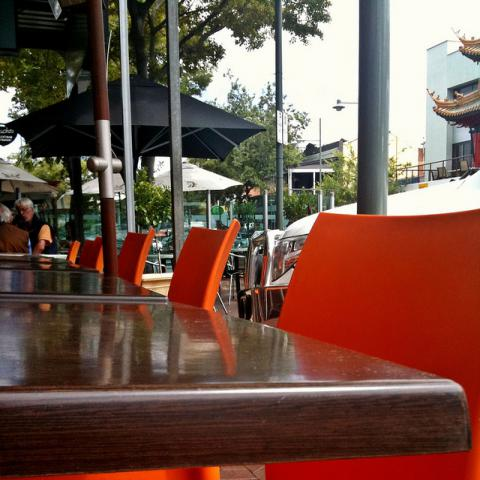car: (236, 168, 478, 325)
